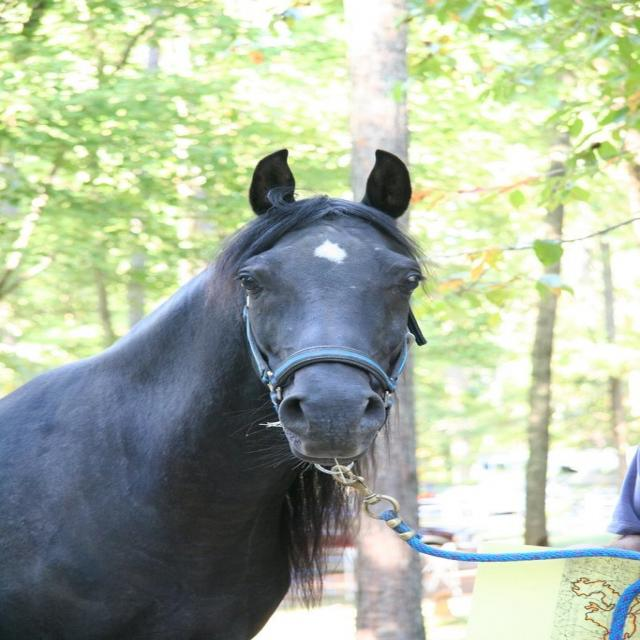Horse: (0, 148, 434, 640)
